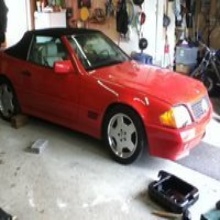no damage: (1, 27, 211, 167)
